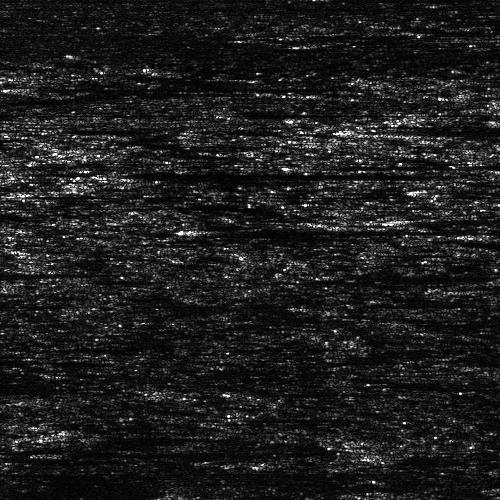rock: (0, 71, 72, 104), (256, 159, 371, 172), (423, 282, 500, 299), (288, 126, 403, 137), (332, 216, 457, 225), (87, 164, 150, 179), (411, 183, 442, 198), (157, 228, 210, 233), (21, 450, 74, 455), (200, 112, 253, 117), (450, 231, 500, 236), (488, 262, 500, 269), (53, 124, 64, 131)
shadow: (10, 71, 315, 104), (119, 164, 443, 179), (346, 126, 500, 137), (184, 228, 500, 233), (48, 450, 277, 455), (314, 159, 399, 172), (427, 183, 500, 198), (395, 216, 500, 225), (0, 267, 42, 280), (59, 124, 135, 131), (476, 282, 500, 299), (227, 112, 307, 117), (482, 231, 500, 236)
